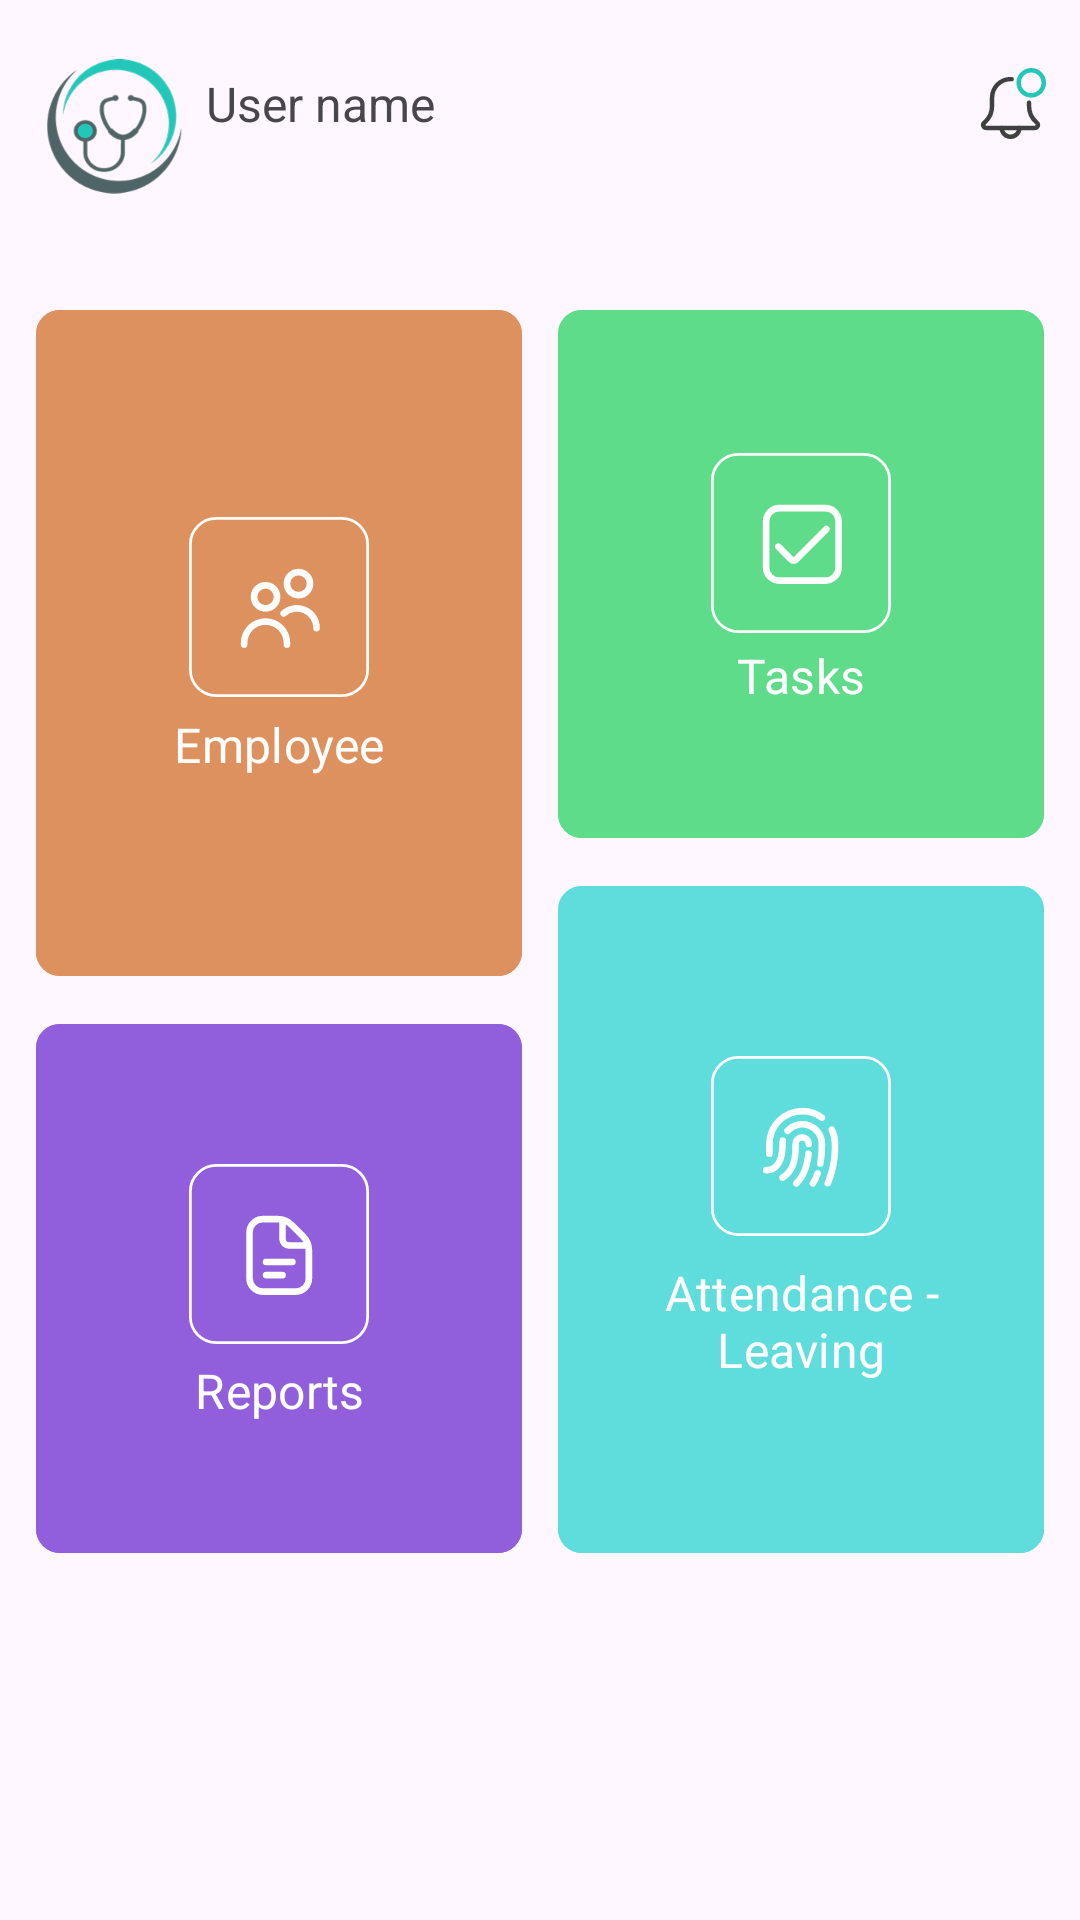

Locate icon controls on the screen. Image size 1080 × 1920, boxes as (x1, y1, x2, y2).
notification: (981, 68, 1046, 139)
